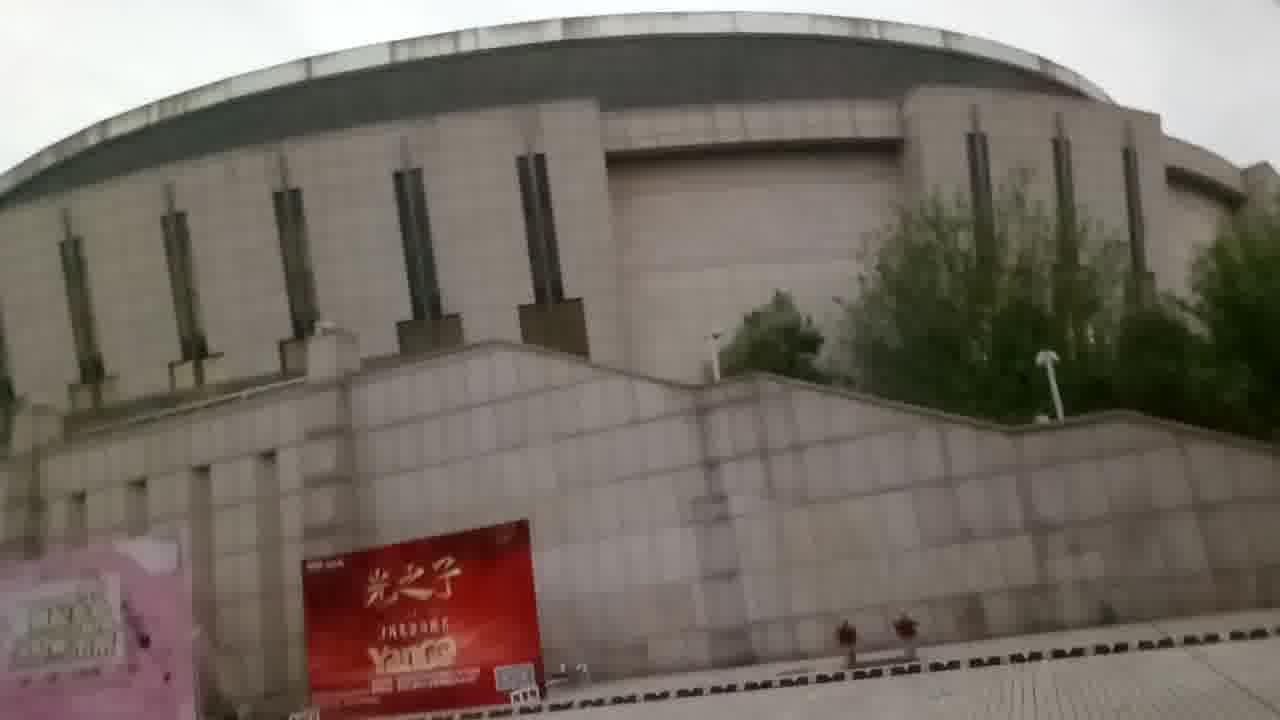zhongtiww: (30, 8, 1280, 652)
